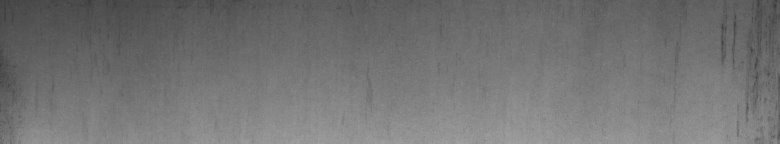ka: (717, 4, 776, 135)
